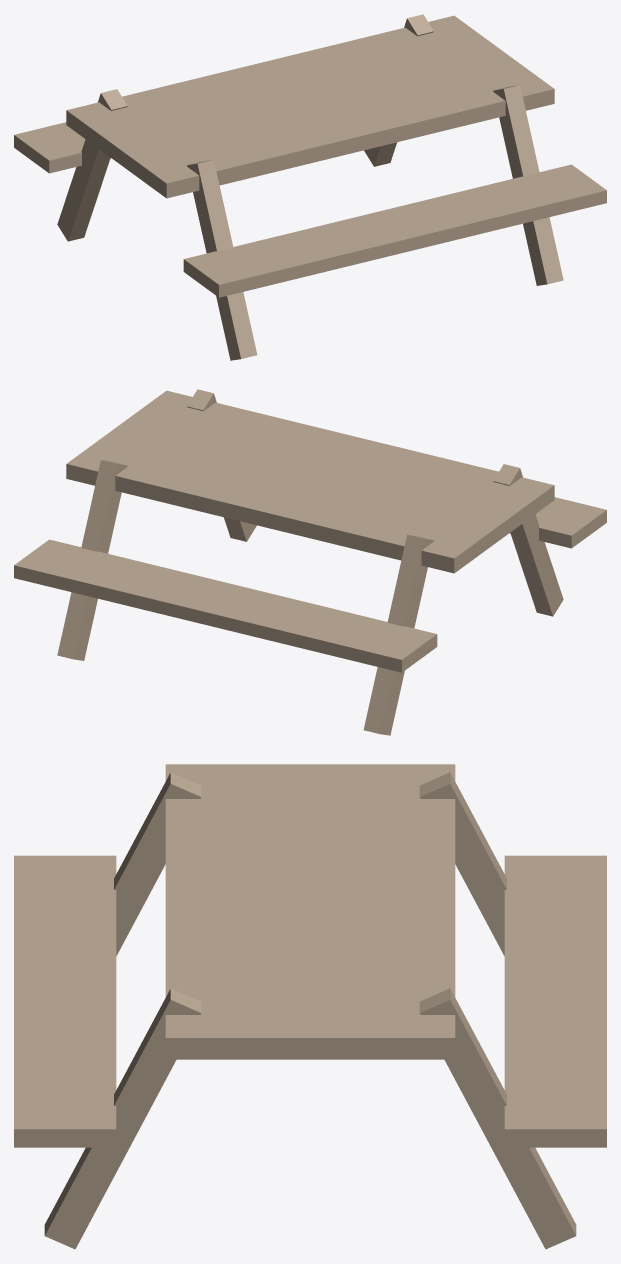
File: picnic_table.glb
3 views of the same model, one above another, from view 1: azimuth 30°, elevation 25°; view 2: azimuth 150°, elevation 25°; view 3: azimuth 270°, elevation 25° (orthographic). The views are drawn at different scales.
Visible parts, largest first — view 1: props_picnic_table; view 2: props_picnic_table; view 3: props_picnic_table.
Boxes of the visible parts, bbox=[...] form: props_picnic_table: bbox=[14, 14, 606, 360]; props_picnic_table: bbox=[14, 389, 606, 735]; props_picnic_table: bbox=[14, 764, 606, 1249].
Bounding box in the file's own units: 1.9 × 0.8088 × 1.74.
